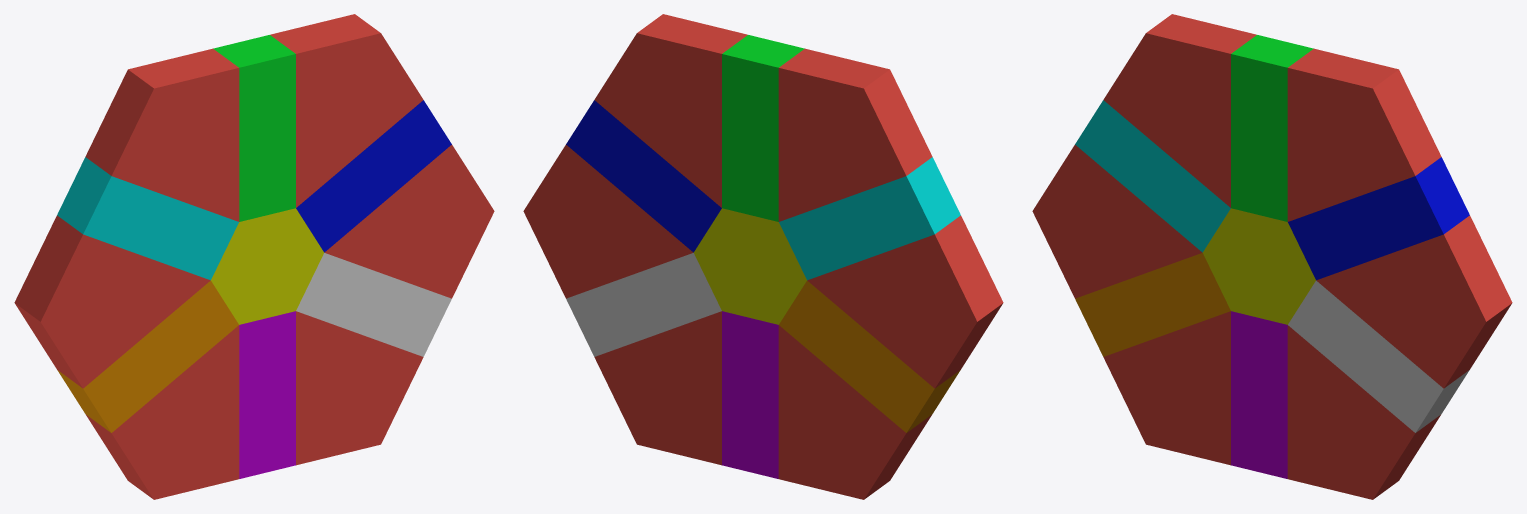
Rendered from ConduitTile.fbx.
The picture shows the model from 3 angles, left to right: view 1: azimuth 30°, elevation 25°; view 2: azimuth 150°, elevation 25°; view 3: azimuth 330°, elevation 25°; orthographic projection.
Visible parts, largest first — view 1: Cylinder; view 2: Cylinder; view 3: Cylinder.
Boxes of the visible parts, bbox=[...] form: Cylinder: bbox=[14, 14, 494, 499]; Cylinder: bbox=[523, 14, 1003, 499]; Cylinder: bbox=[1032, 14, 1512, 499].
Bounding box in the file's own units: 20 × 173 × 200.
